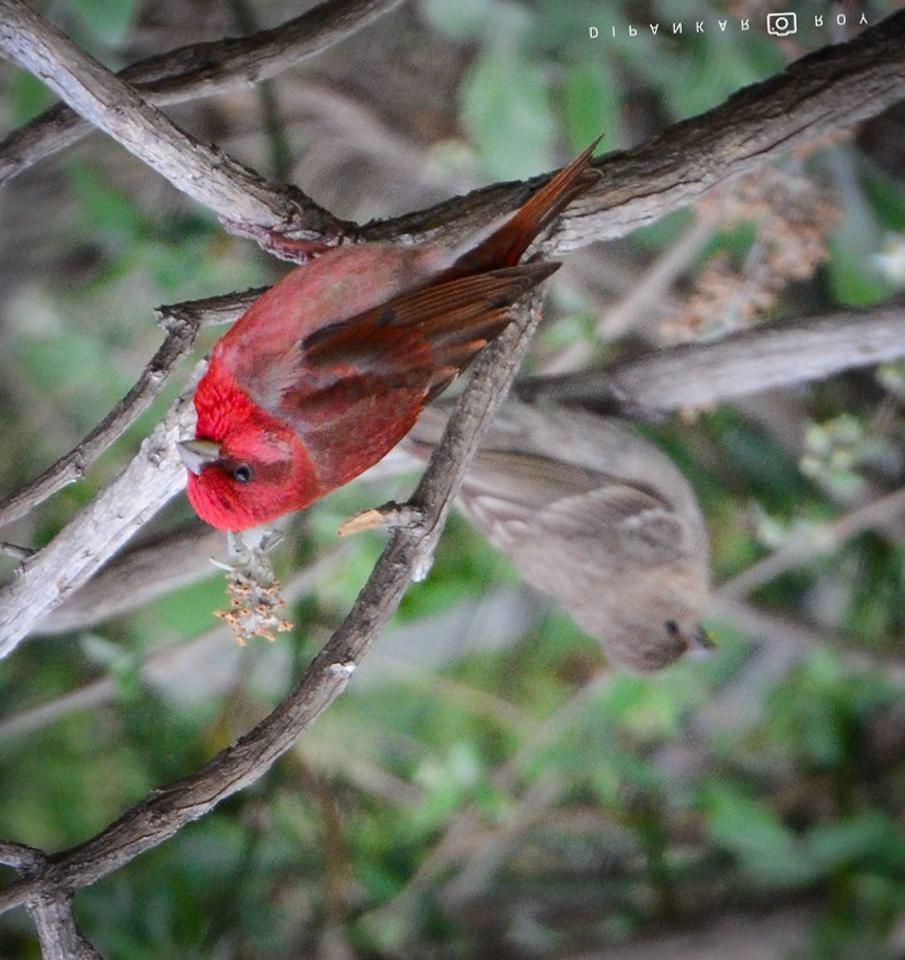rosefinch: (166, 126, 582, 560)
